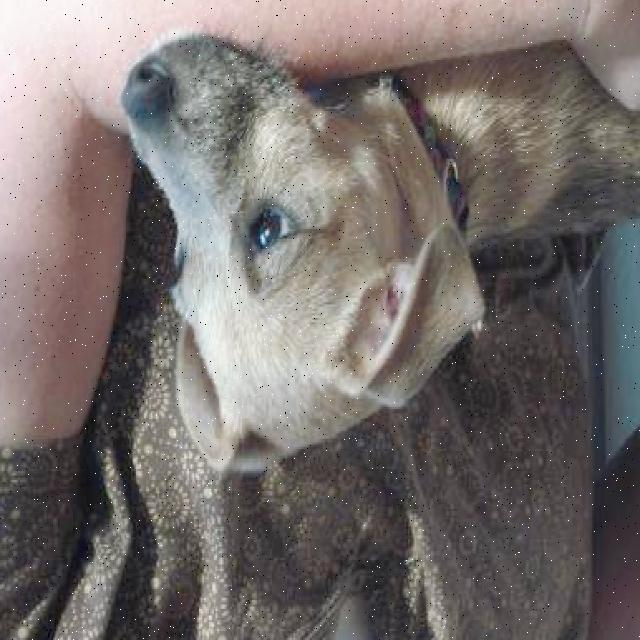Dog: (124, 34, 482, 487)
